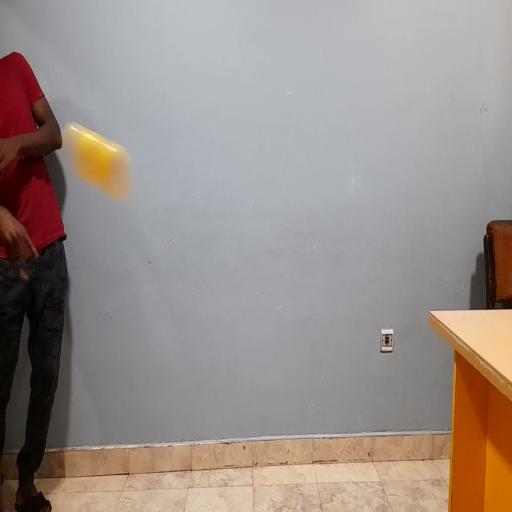plastic-ball: (63, 123, 131, 199)
